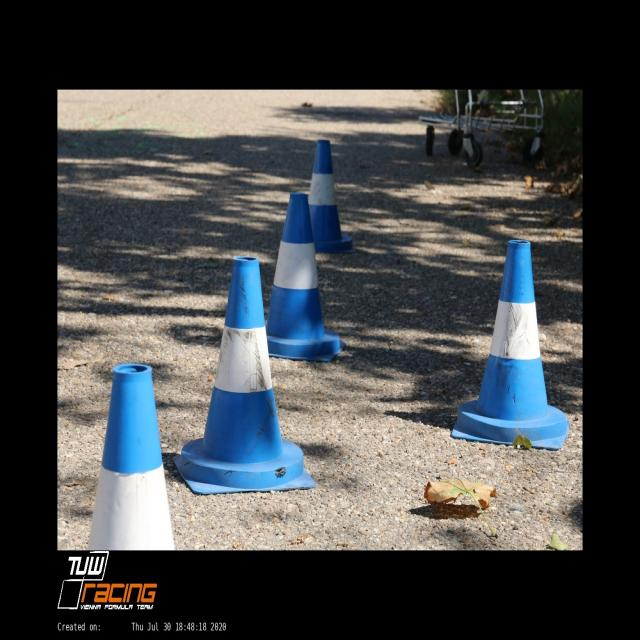blue_cone: (173, 255, 316, 491), (450, 240, 569, 452), (84, 364, 177, 548), (257, 194, 344, 363), (301, 140, 353, 253)
